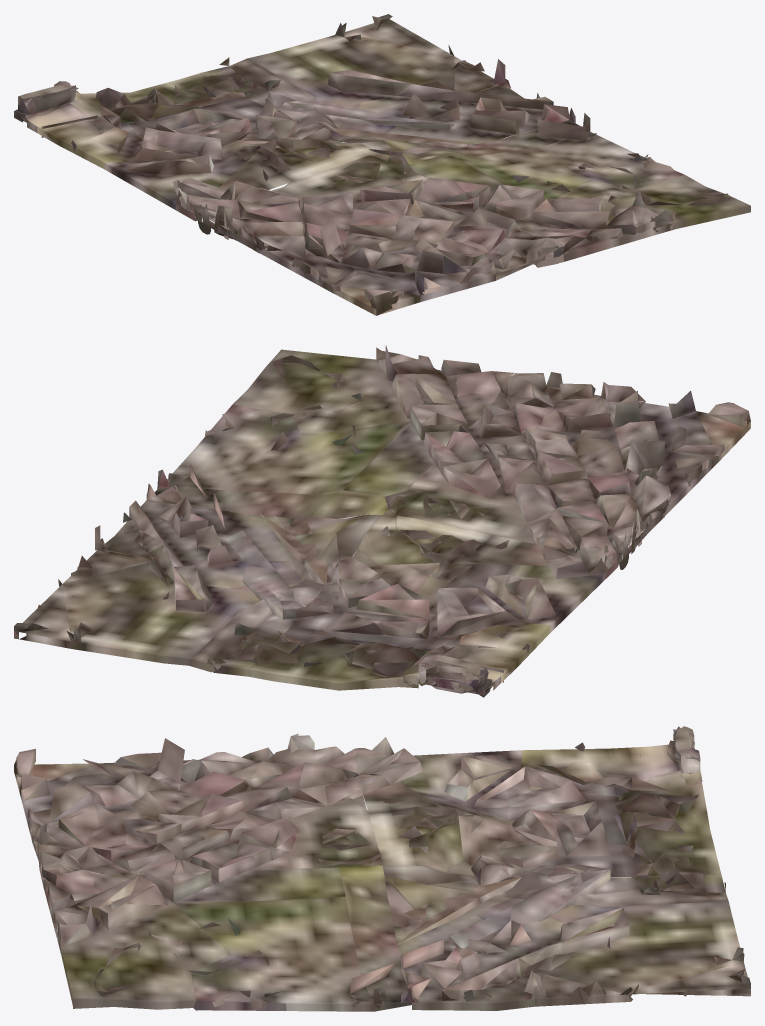
3 renders of one model, top to bottom at view 1: azimuth 30°, elevation 25°; view 2: azimuth 150°, elevation 25°; view 3: azimuth 270°, elevation 25°, orthographic. The views are drawn at different scales.
Visible parts, largest first — view 1: Mesh_0; view 2: Mesh_0; view 3: Mesh_0.
Part boxes in pixels (<box>): Mesh_0: <box>14,14,750,315</box>; Mesh_0: <box>14,345,750,697</box>; Mesh_0: <box>14,726,750,1011</box>.
Size of the model in its own units: 1064 by 158 by 1318.
Materials: 1 (1 with a texture image).
